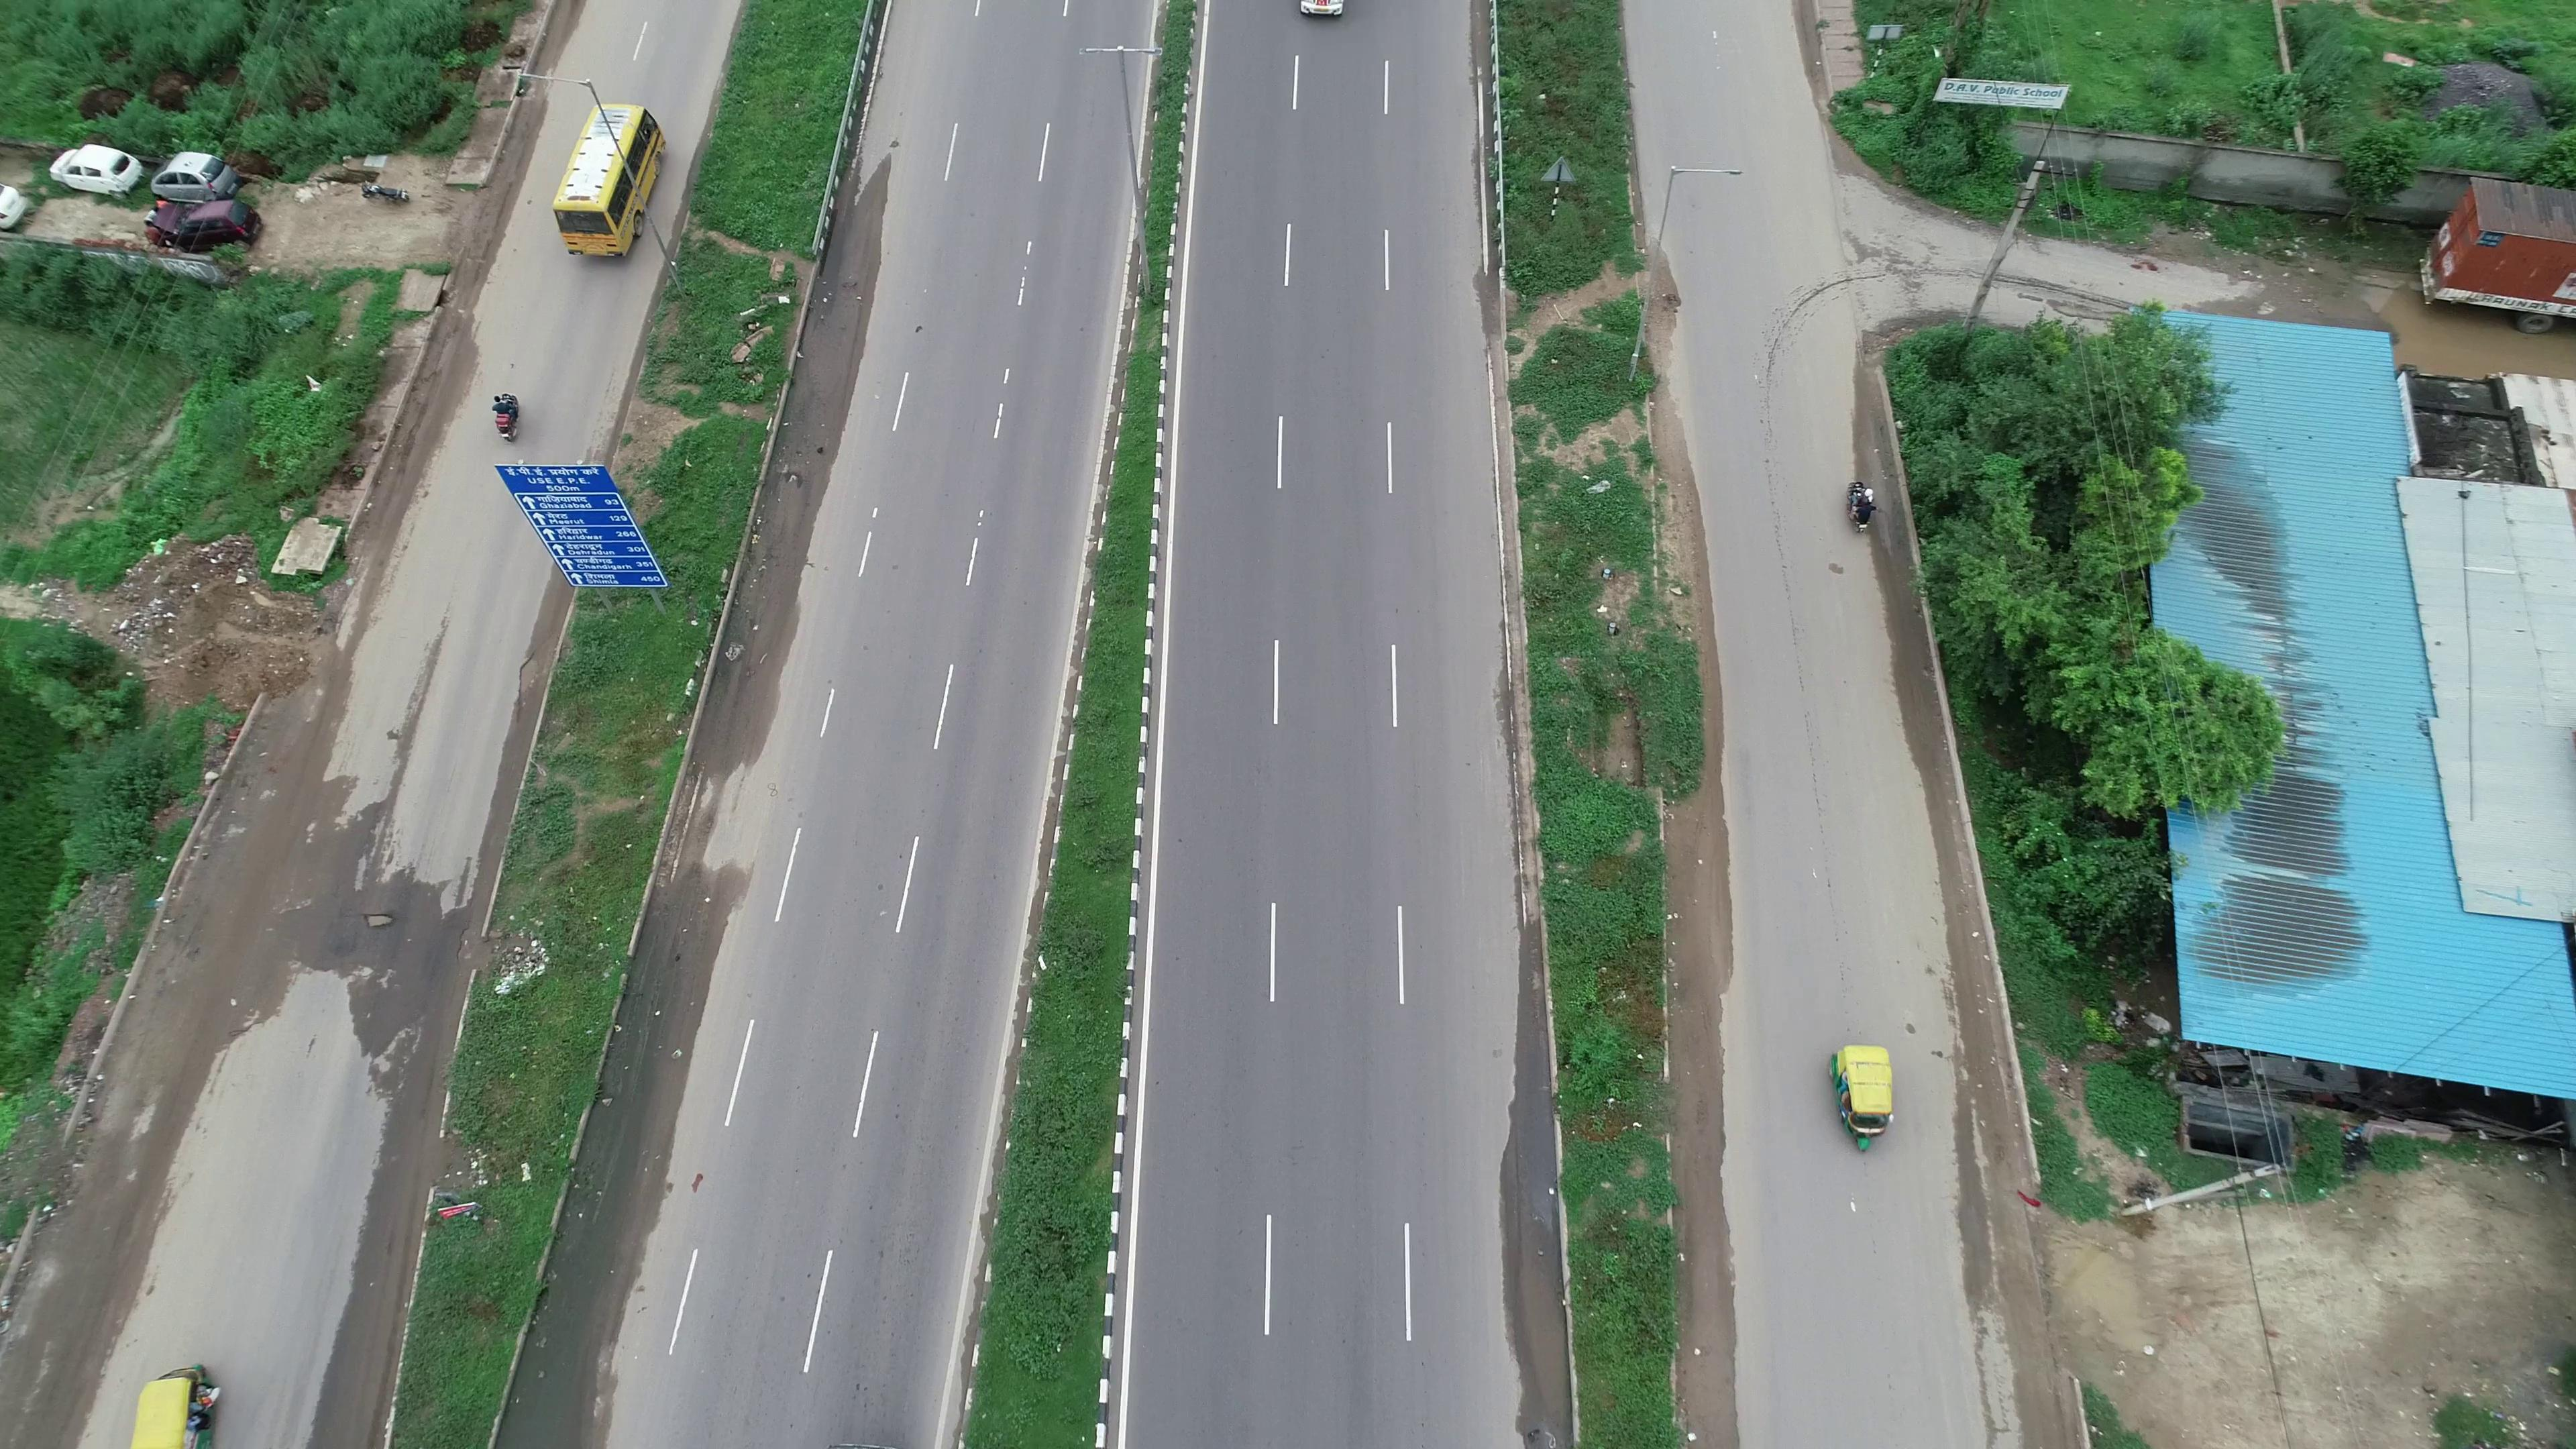Muddy_road: (494, 1184, 644, 1444), (584, 929, 692, 1171)
Potholes: (327, 885, 435, 978)
